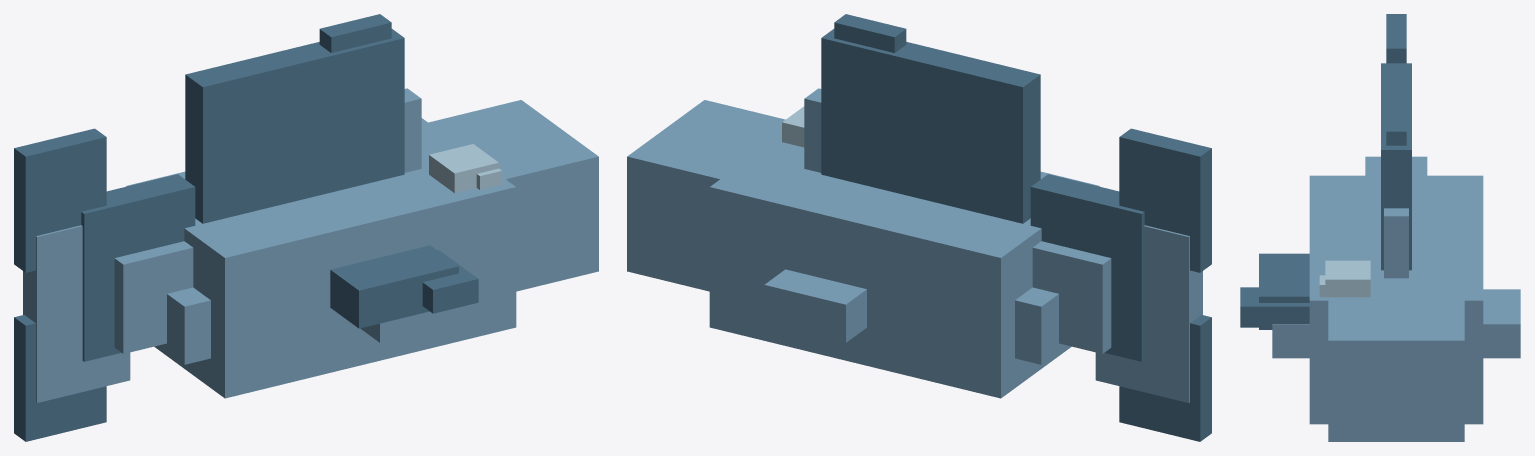
Rendered from fish_mist_tuna.glb.
3 renders of one model, left to right at view 1: azimuth 30°, elevation 25°; view 2: azimuth 150°, elevation 25°; view 3: azimuth 270°, elevation 25°, orthographic. The views are drawn at different scales.
Parts seen in each view (by area): view 1: FishArt_body, FishArt_dorsal, FishArt_tail, FishArt_pectoral, FishArt_eye; view 2: FishArt_body, FishArt_dorsal, FishArt_tail, FishArt_eye; view 3: FishArt_body, FishArt_dorsal, FishArt_pectoral, FishArt_eye, FishArt_tail.
Boxes of the visible parts, x1,y1,x2,y2 form: FishArt_body: [23, 88, 598, 402]; FishArt_dorsal: [185, 14, 404, 223]; FishArt_tail: [14, 128, 195, 441]; FishArt_pectoral: [330, 245, 478, 328]; FishArt_eye: [429, 144, 502, 193]; FishArt_body: [627, 88, 1202, 402]; FishArt_dorsal: [821, 14, 1040, 223]; FishArt_tail: [1030, 128, 1211, 441]; FishArt_eye: [782, 106, 804, 147]; FishArt_body: [1272, 156, 1520, 441]; FishArt_dorsal: [1381, 63, 1411, 270]; FishArt_pectoral: [1240, 253, 1309, 329]; FishArt_eye: [1319, 260, 1370, 297]; FishArt_tail: [1386, 14, 1406, 63].
Bounding box in the file's own units: 0.321 × 0.1875 × 0.1637.
